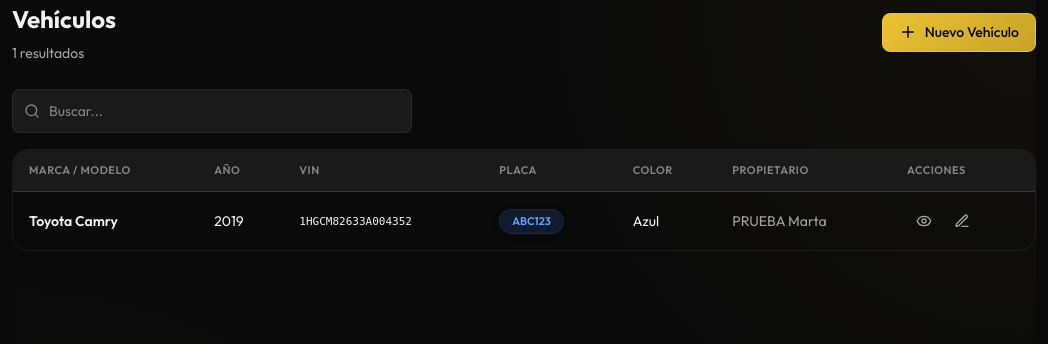
Historial del vehículo › un técnico no ve la columna de total
The width and height of the screenshot is (1048, 344).
Expected: the text "Toyota Camry" is shown, x1=13 y1=192 x2=198 y2=250
Step 1. Click the button named "Ver" → [924, 221], box x1=907 y1=204 x2=941 y2=238
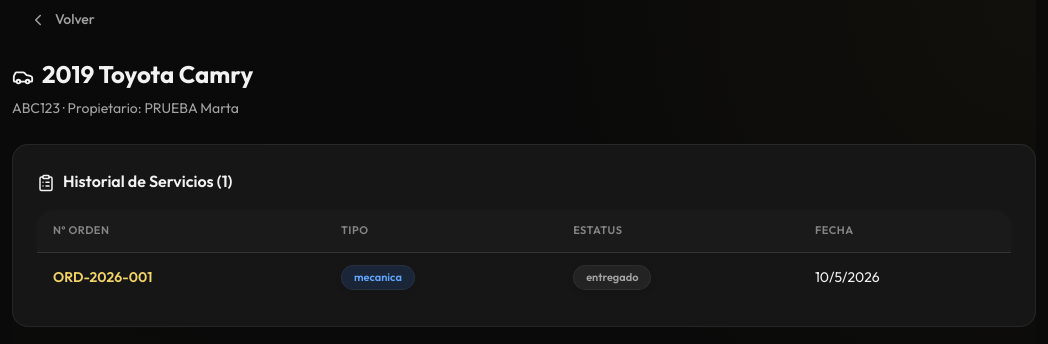
Now the button "ORD-2026-001" is shown, box x1=53 y1=266 x2=152 y2=289
